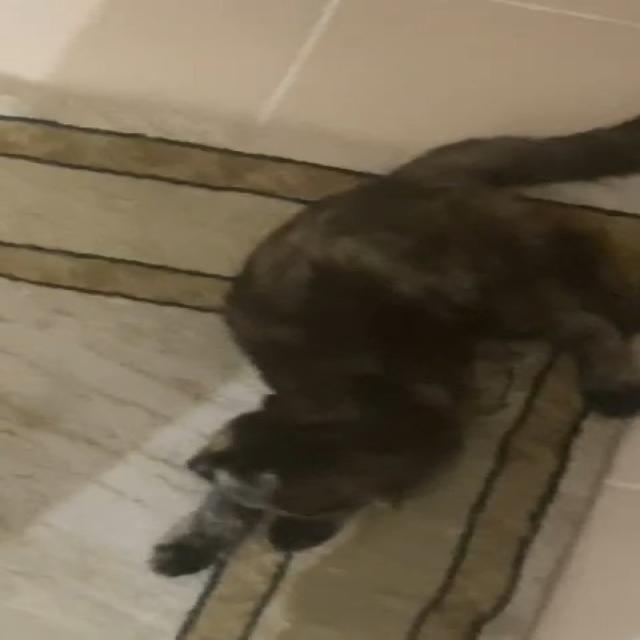authorized: (145, 112, 638, 638)
